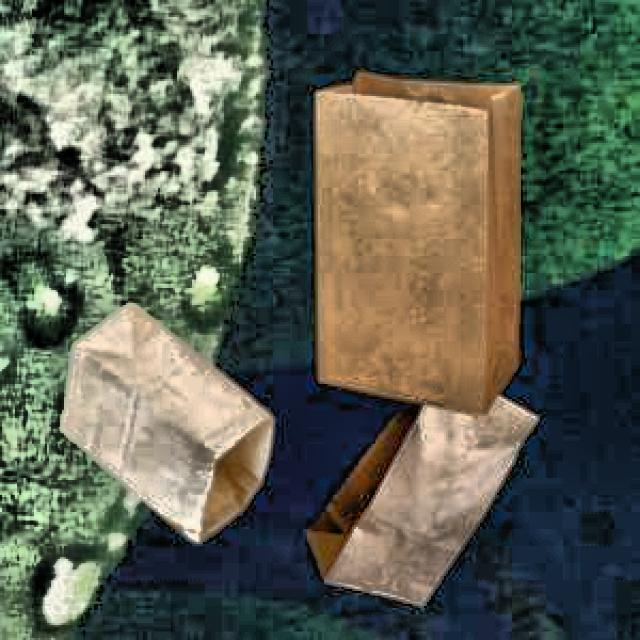Paper-bag: (298, 72, 534, 417), (49, 294, 278, 542), (324, 375, 544, 619)
